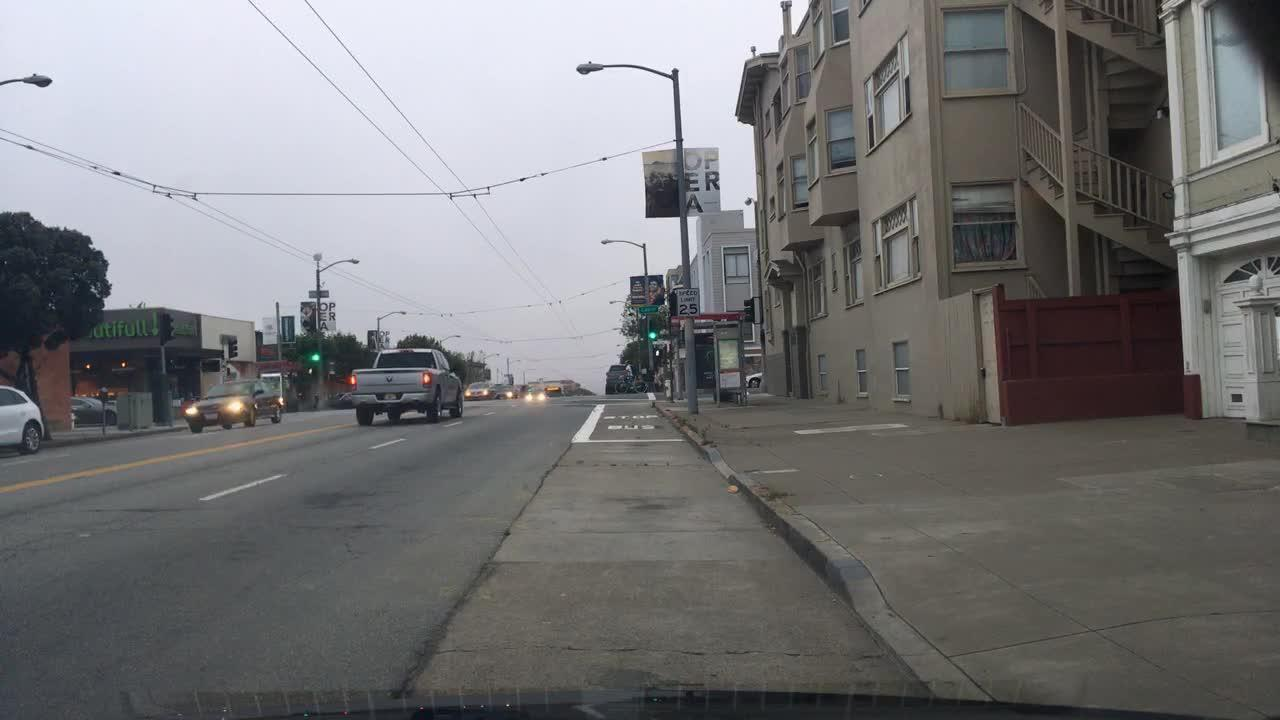ram: (383, 374, 397, 388)
